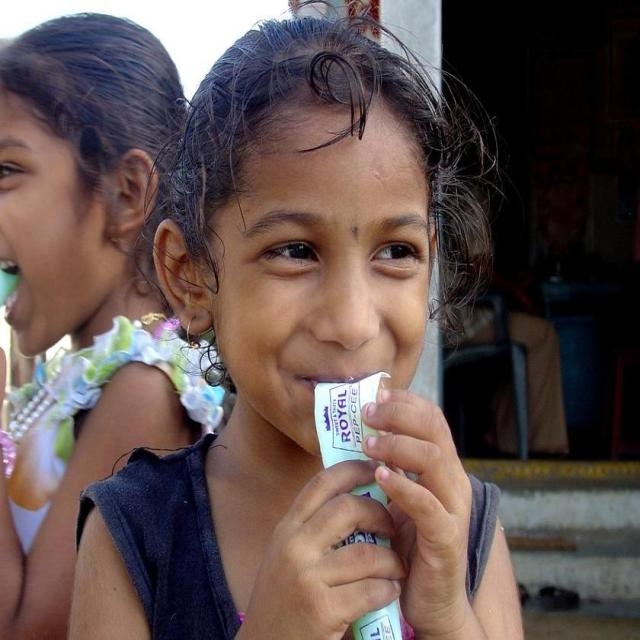no-glass: (256, 230, 426, 274)
